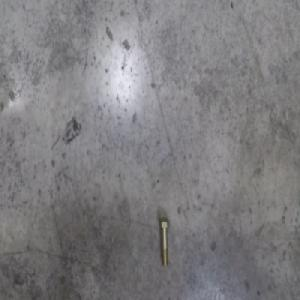Bolt: (159, 217, 171, 268)
